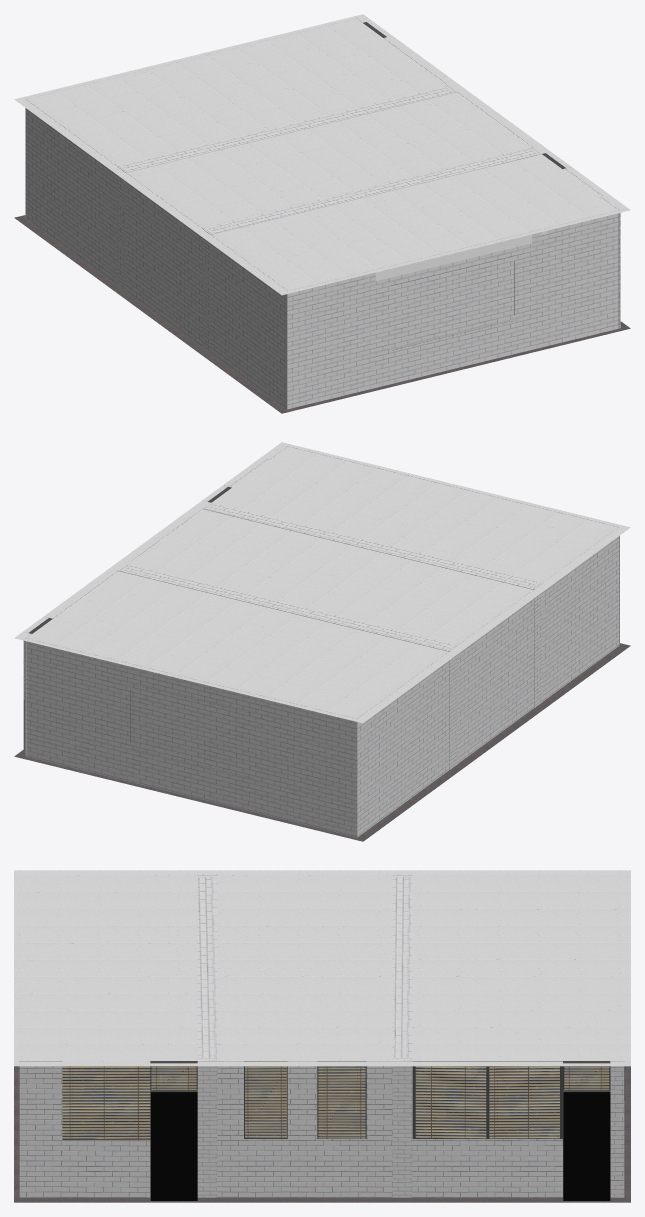
File: Classroom.fbx
3 renders of one model, top to bottom at view 1: azimuth 30°, elevation 25°; view 2: azimuth 150°, elevation 25°; view 3: azimuth 270°, elevation 25°, orthographic. The views are drawn at different scales.
Parts seen in each view (by area): view 1: Ceiling, Walls, Pillars, Floor, ProjectorScreen; view 2: Ceiling, Walls, Pillars, Floor; view 3: Ceiling, Walls, Pillars, Floor, Door2, Door1, Window2, Window1.
Part boxes in pixels (x1,y1,x2,y2): Ceiling: (14,14,630,295); Walls: (25,18,620,409); Pillars: (117,85,541,352); Floor: (14,215,630,413); ProjectorScreen: (375,234,531,281); Ceiling: (14,442,630,723); Walls: (23,447,619,837); Pillars: (118,502,542,769); Floor: (14,643,630,841); Ceiling: (14,870,630,1066); Walls: (19,1061,624,1197); Pillars: (197,874,412,1197); Floor: (14,1066,630,1202); Door2: (563,1092,610,1200); Door1: (150,1092,197,1200); Window2: (150,1061,197,1091); Window1: (563,1061,610,1091).
Bounding box in the file's own units: 8.66 × 2.83 × 11.51.
